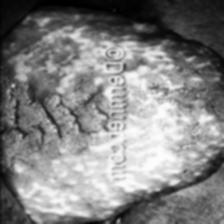Non-Cancerous Skin Condition: (0, 14, 99, 216), (132, 52, 224, 199)
